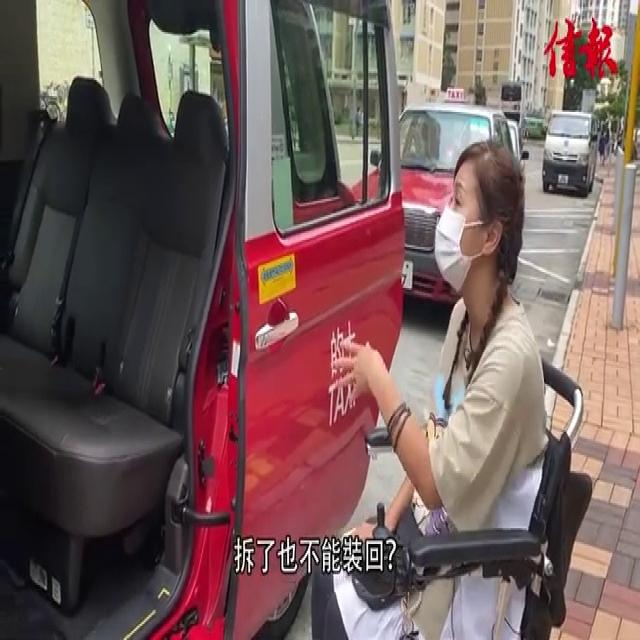wheelchairs: (330, 332, 612, 631)
